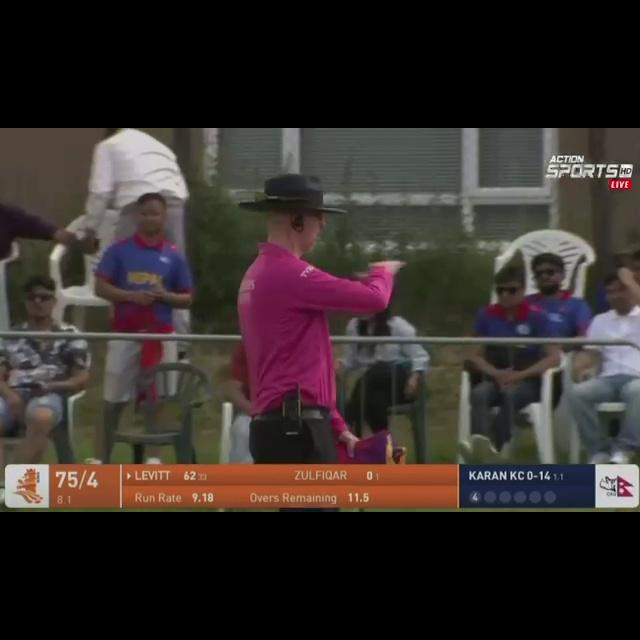umpire: (214, 164, 421, 463)
